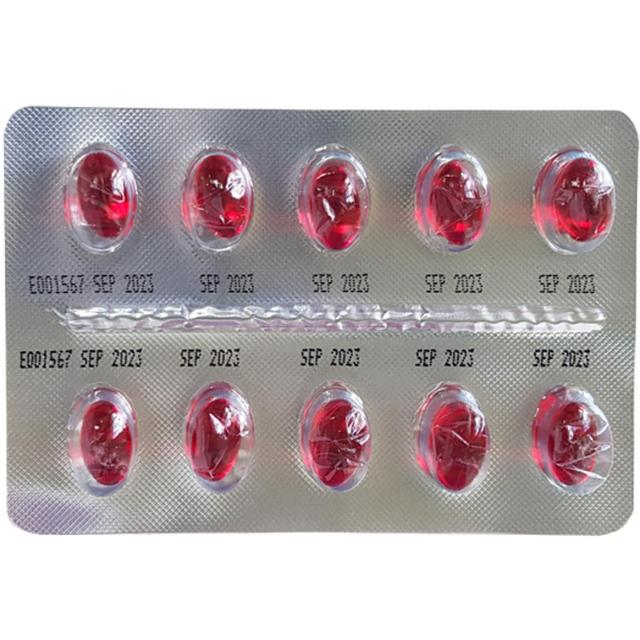blister: (2, 103, 637, 539)
